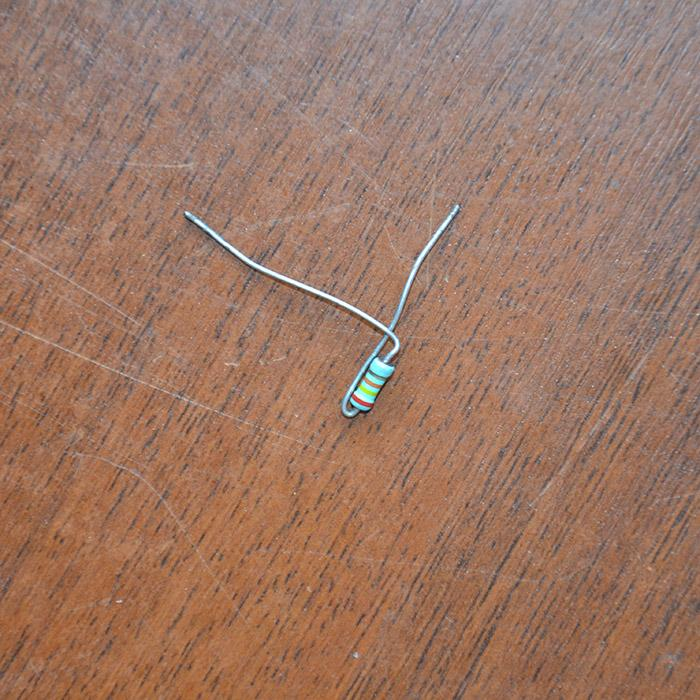resistor: (348, 354, 394, 412)
